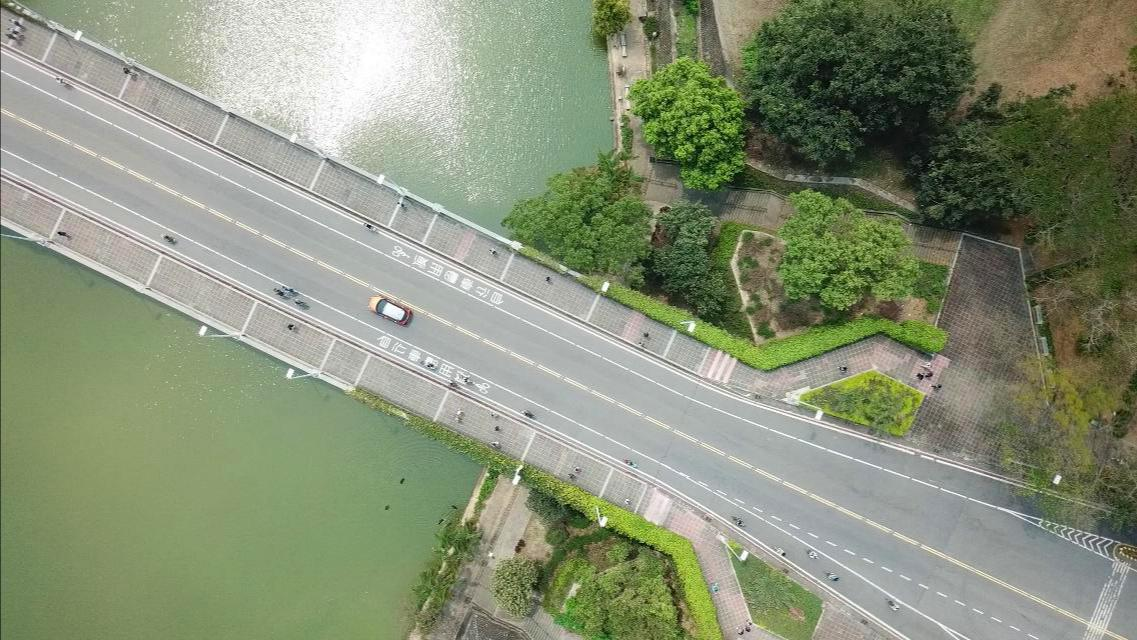vehicle: (369, 294, 410, 327)
